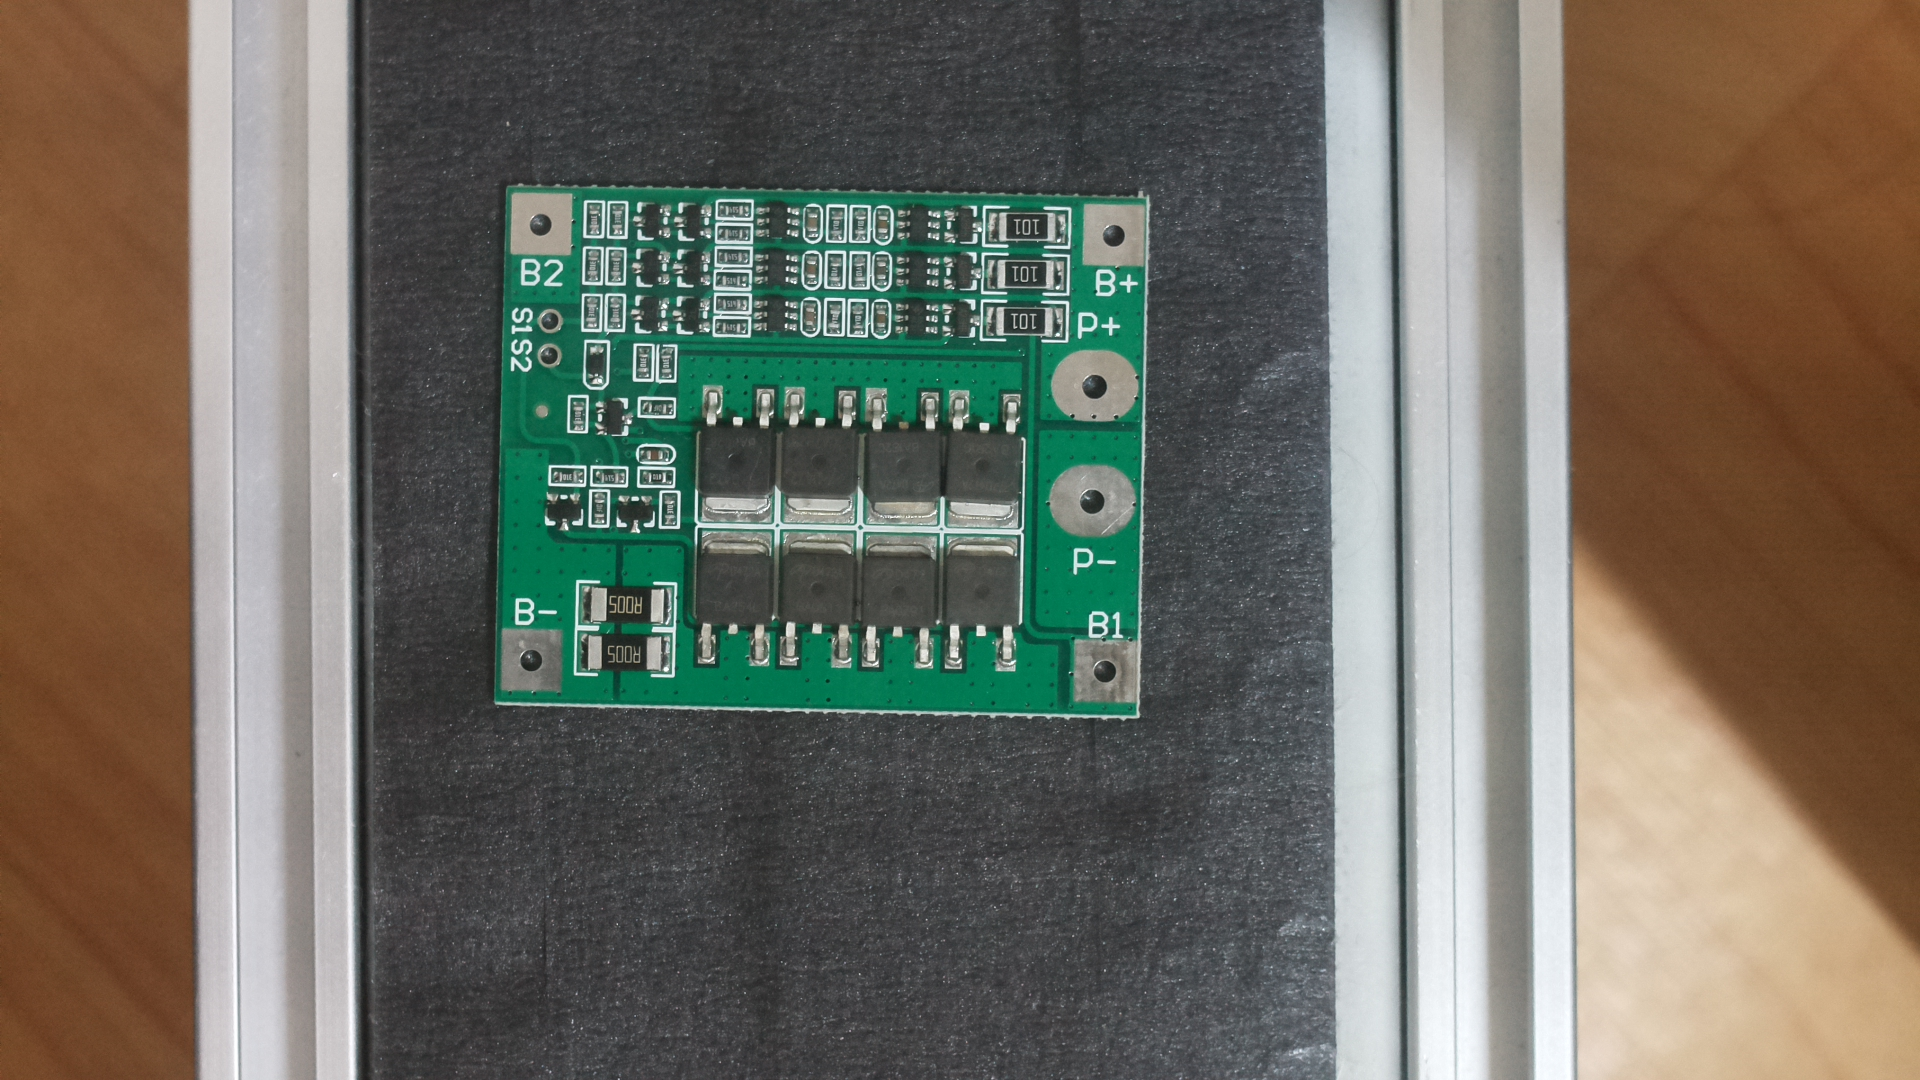C_Normal: (487, 173, 1164, 738)
